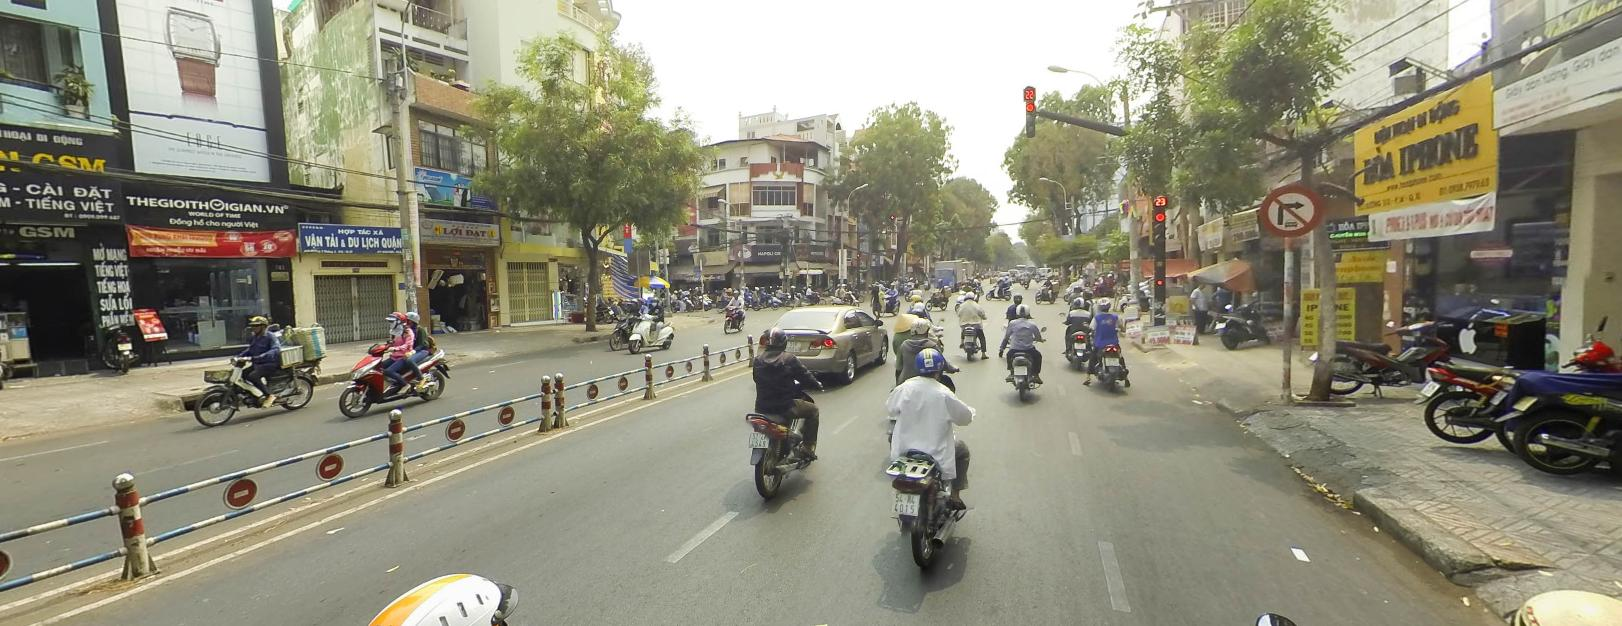Cam re: (1259, 181, 1324, 235)
